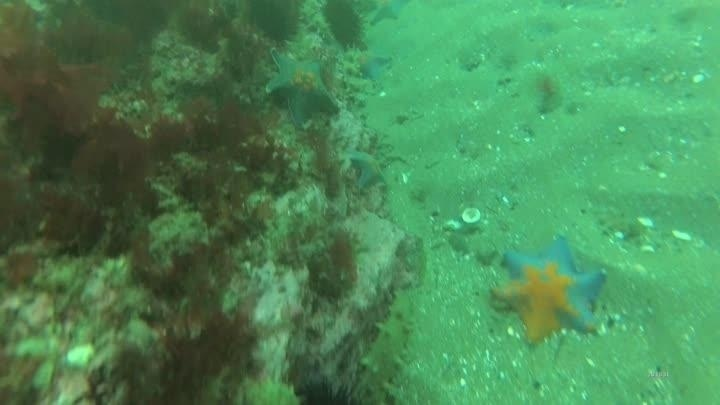echinus: (290, 369, 376, 404), (242, 1, 303, 46), (319, 1, 369, 50)
holothurian: (354, 284, 420, 403), (334, 47, 371, 117), (295, 1, 338, 50), (236, 375, 302, 405)
starfish: (489, 237, 608, 348), (263, 50, 341, 129), (345, 147, 391, 192), (350, 46, 394, 83), (364, 1, 413, 27)
